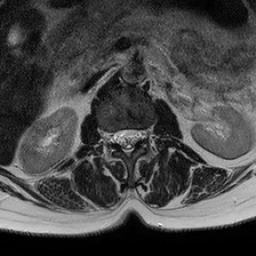CCS_normal: (122, 120, 131, 160)
LFS_normal: (140, 120, 149, 147)
LLS_normal: (131, 120, 140, 148)
RFS_normal: (104, 122, 113, 149)
RLS_normal: (113, 122, 122, 149)
